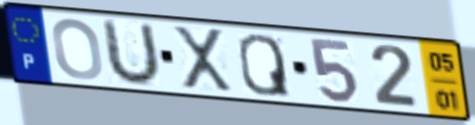2: (368, 43, 422, 111)
5: (306, 37, 363, 105)
O: (49, 16, 106, 82)
Q: (236, 31, 294, 99)
U: (101, 16, 164, 88)
X: (170, 24, 236, 94)
